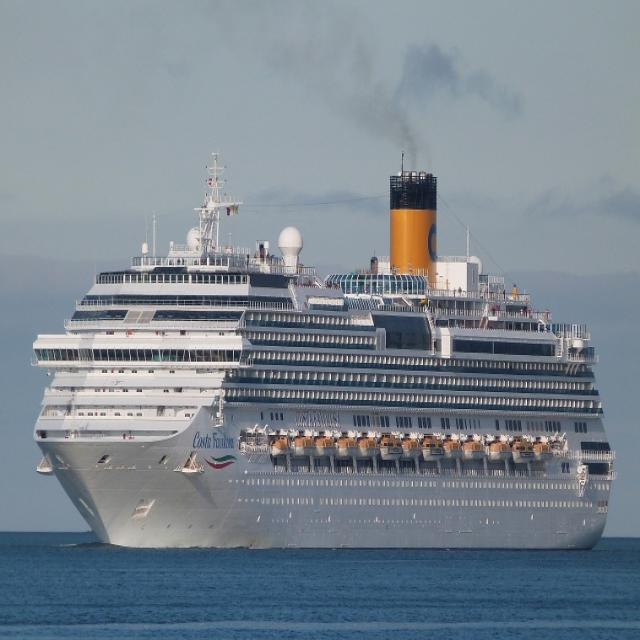cruises: (28, 147, 618, 561)
